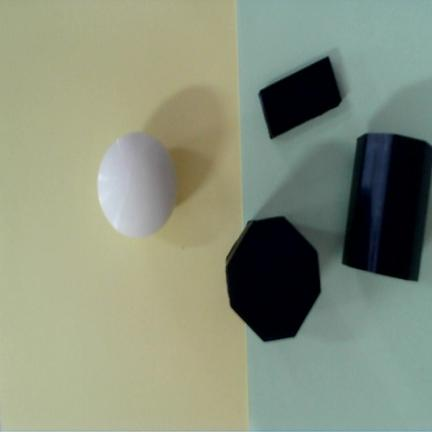Esfera: (97, 132, 177, 237)
Paralelepipedo: (259, 57, 342, 138)
Prisma_hexagonal: (342, 133, 431, 280), (226, 216, 320, 341)
